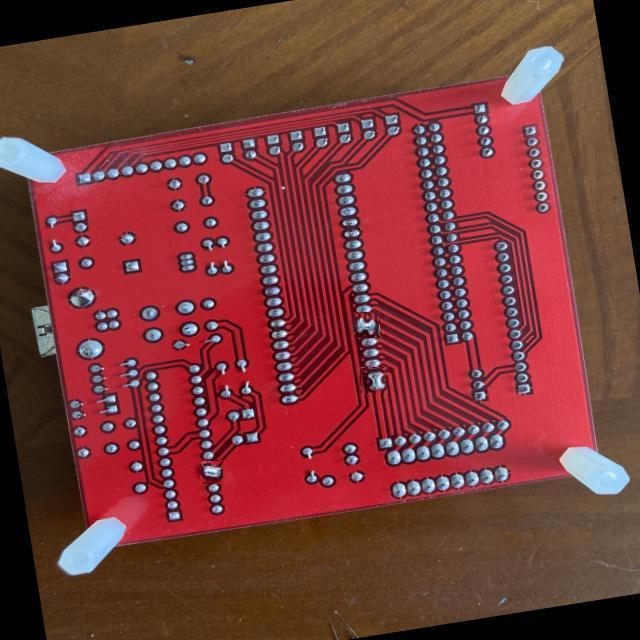damged: (361, 367, 388, 394), (354, 312, 380, 338), (199, 461, 223, 484)
